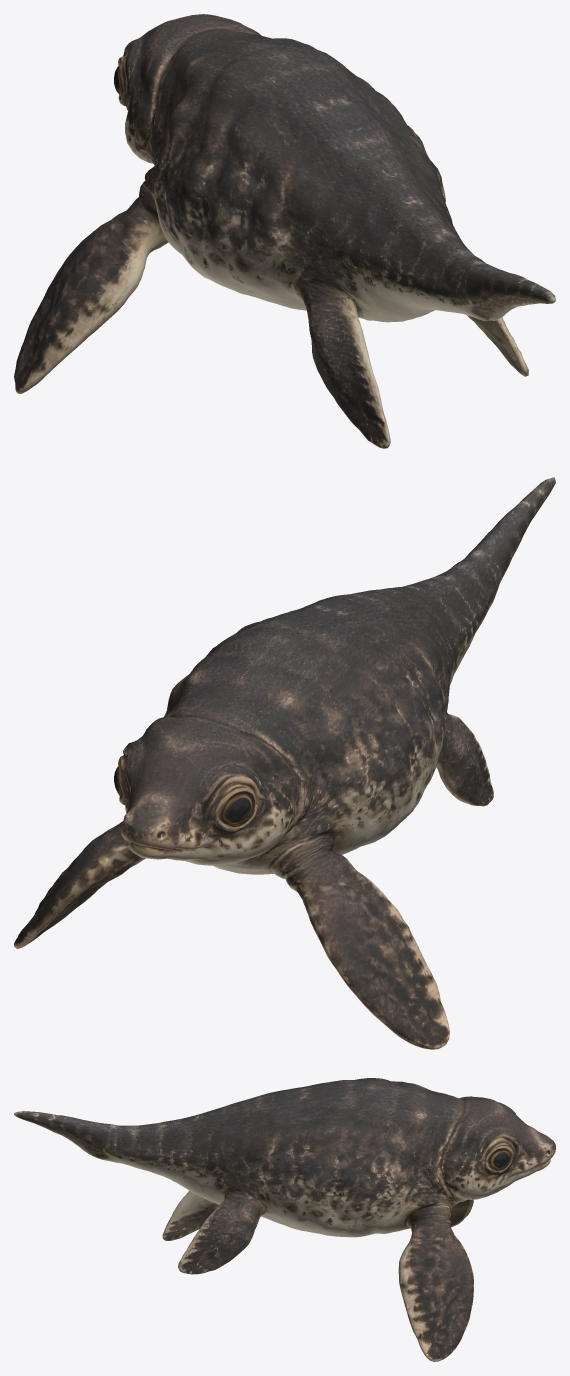
Rendered from cartorhynchus.raw.glb.
3 views of the same model, one above another, from view 1: azimuth 30°, elevation 25°; view 2: azimuth 150°, elevation 25°; view 3: azimuth 270°, elevation 25° (orthographic). The views are drawn at different scales.
Visible parts, largest first — view 1: tripo_node_0934f26f-24dd-4e66-9616-30250a630939; view 2: tripo_node_0934f26f-24dd-4e66-9616-30250a630939; view 3: tripo_node_0934f26f-24dd-4e66-9616-30250a630939.
Boxes of the visible parts, bbox=[...] form: tripo_node_0934f26f-24dd-4e66-9616-30250a630939: bbox=[14, 14, 555, 448]; tripo_node_0934f26f-24dd-4e66-9616-30250a630939: bbox=[14, 477, 555, 1049]; tripo_node_0934f26f-24dd-4e66-9616-30250a630939: bbox=[14, 1078, 555, 1361].
Size of the model in its own units: 0.5923 by 0.4249 by 1.
1 material, 1 textured.
